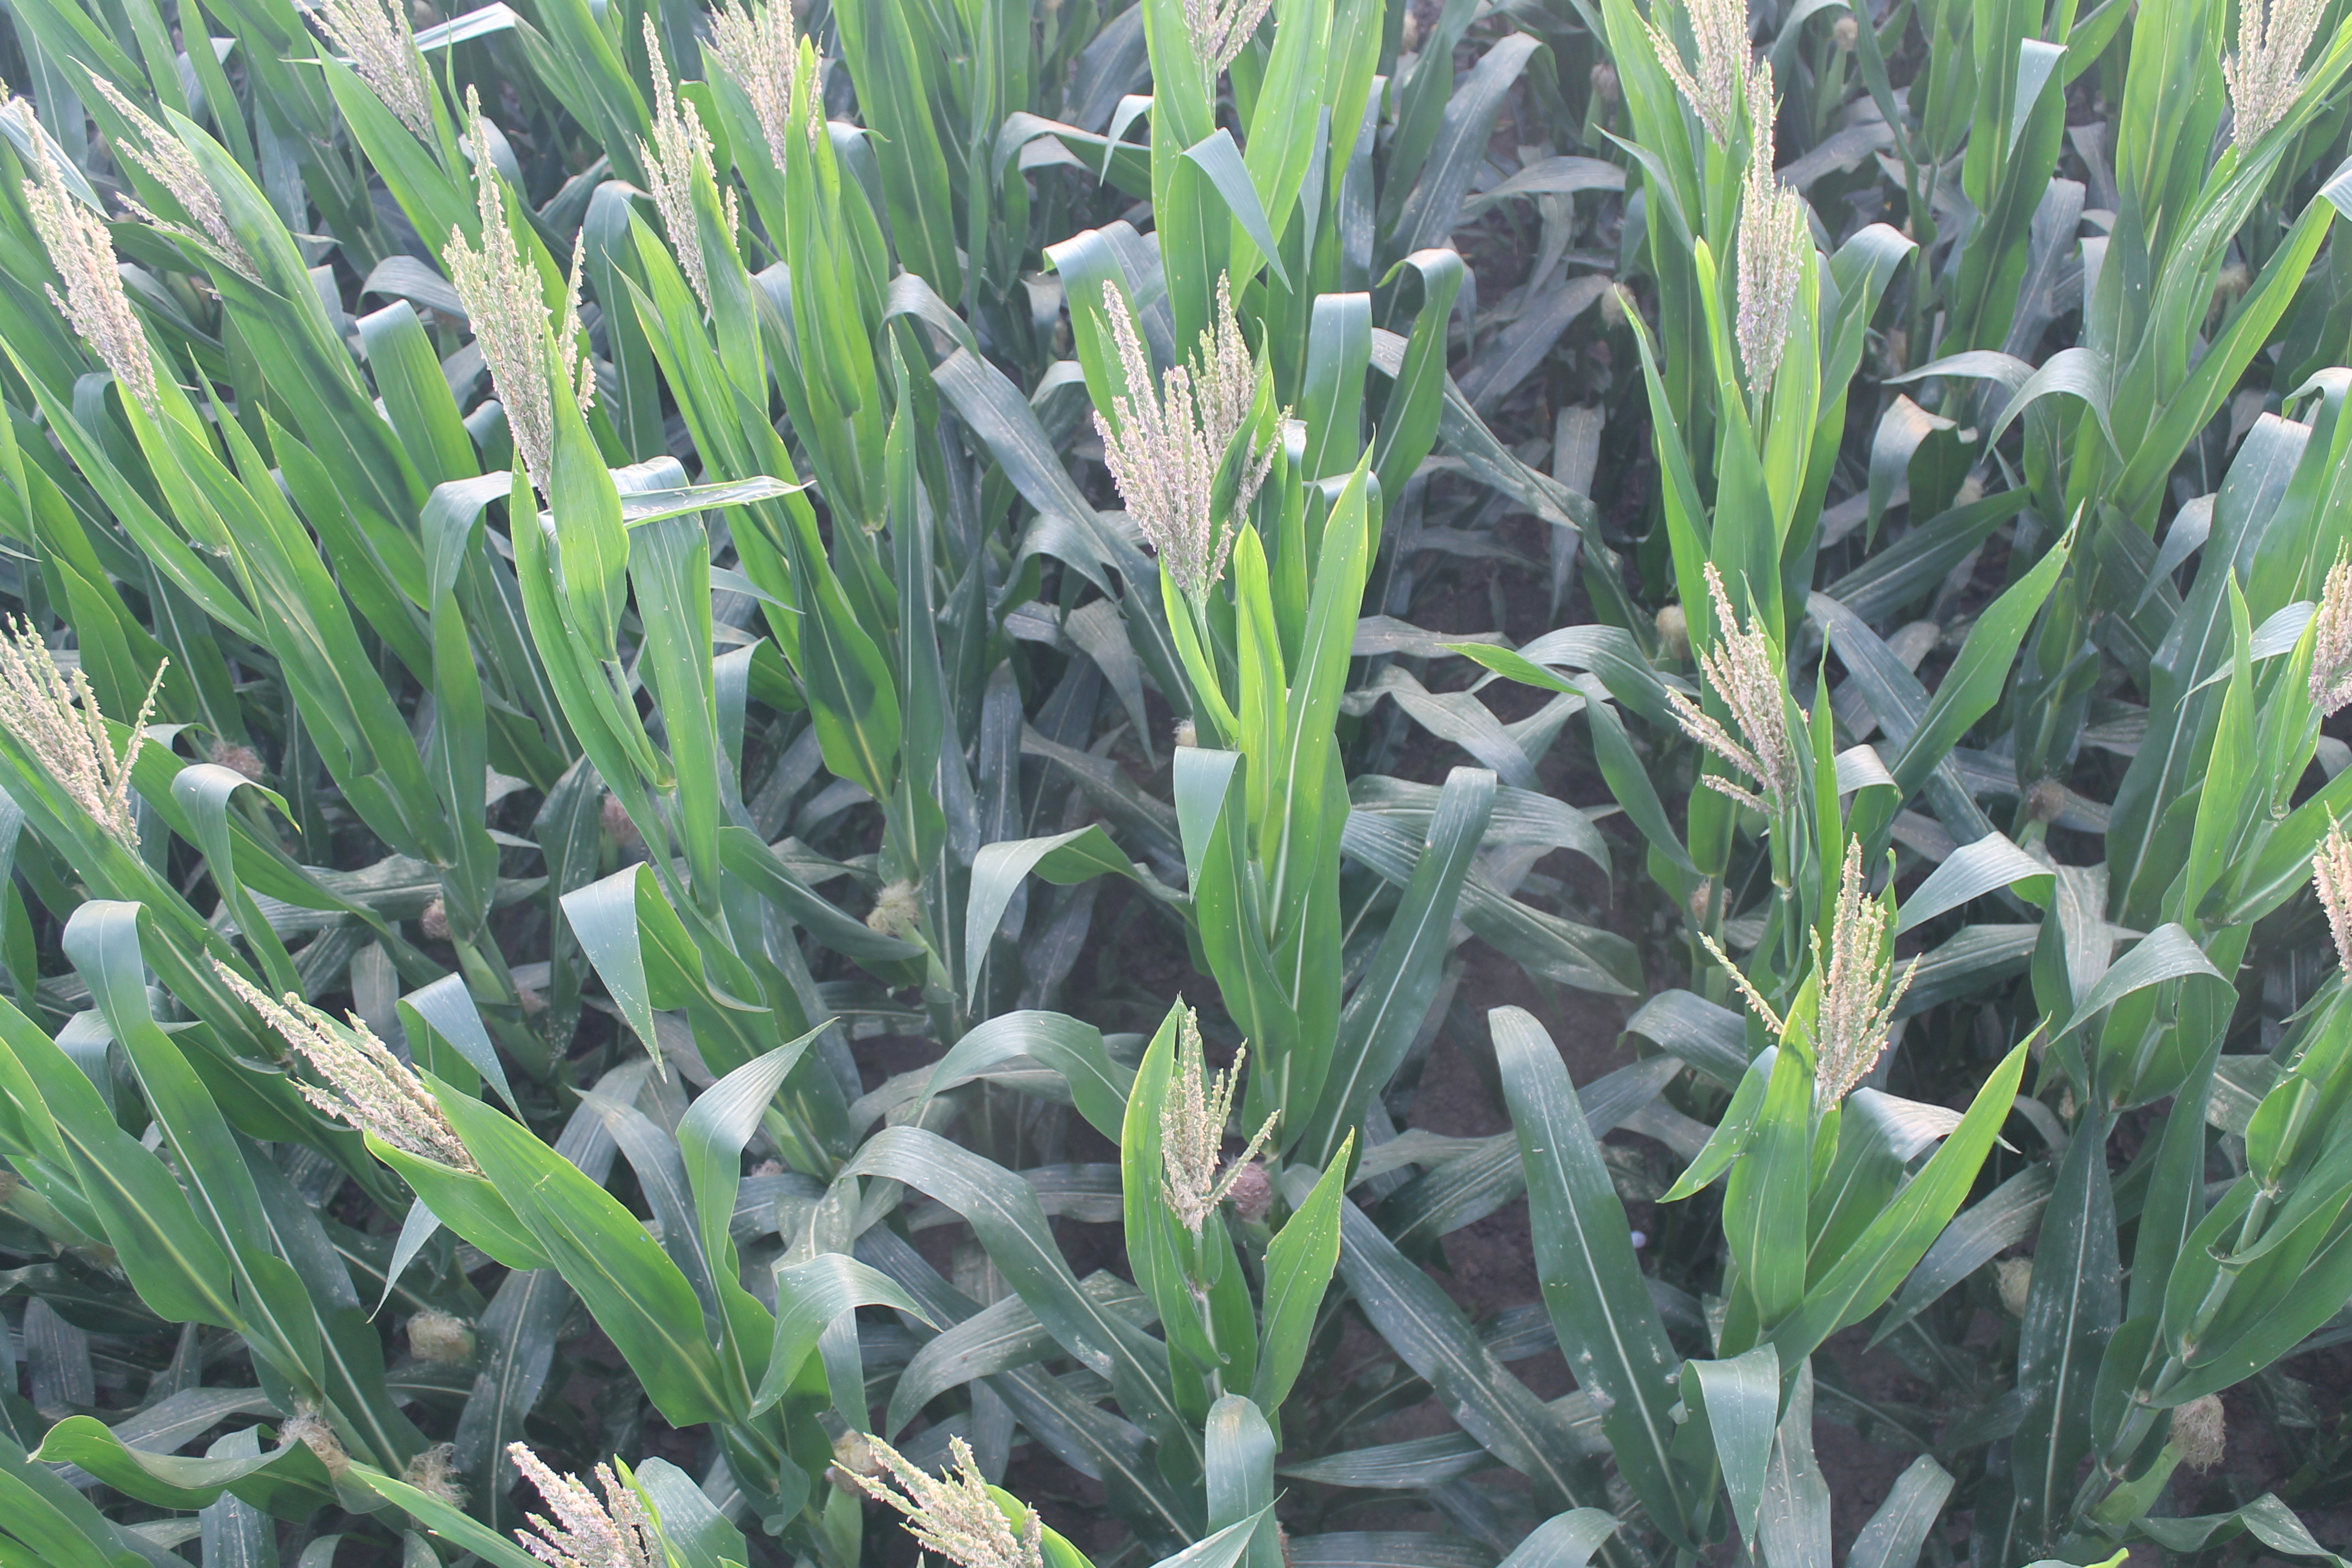Maize: (219, 943, 497, 1172), (1088, 275, 1295, 577), (448, 164, 600, 509), (1720, 852, 1923, 1094), (0, 621, 199, 836), (1657, 565, 1816, 803), (1141, 990, 1283, 1244), (0, 117, 122, 383), (838, 1419, 1045, 1568), (135, 96, 269, 283), (2186, 0, 2352, 149), (1729, 152, 1832, 383), (623, 56, 710, 318), (513, 1416, 663, 1568), (287, 0, 453, 136), (728, 2, 835, 171), (2277, 831, 2352, 1018), (1664, 0, 1745, 143), (2289, 553, 2352, 731), (1160, 0, 1270, 89)
